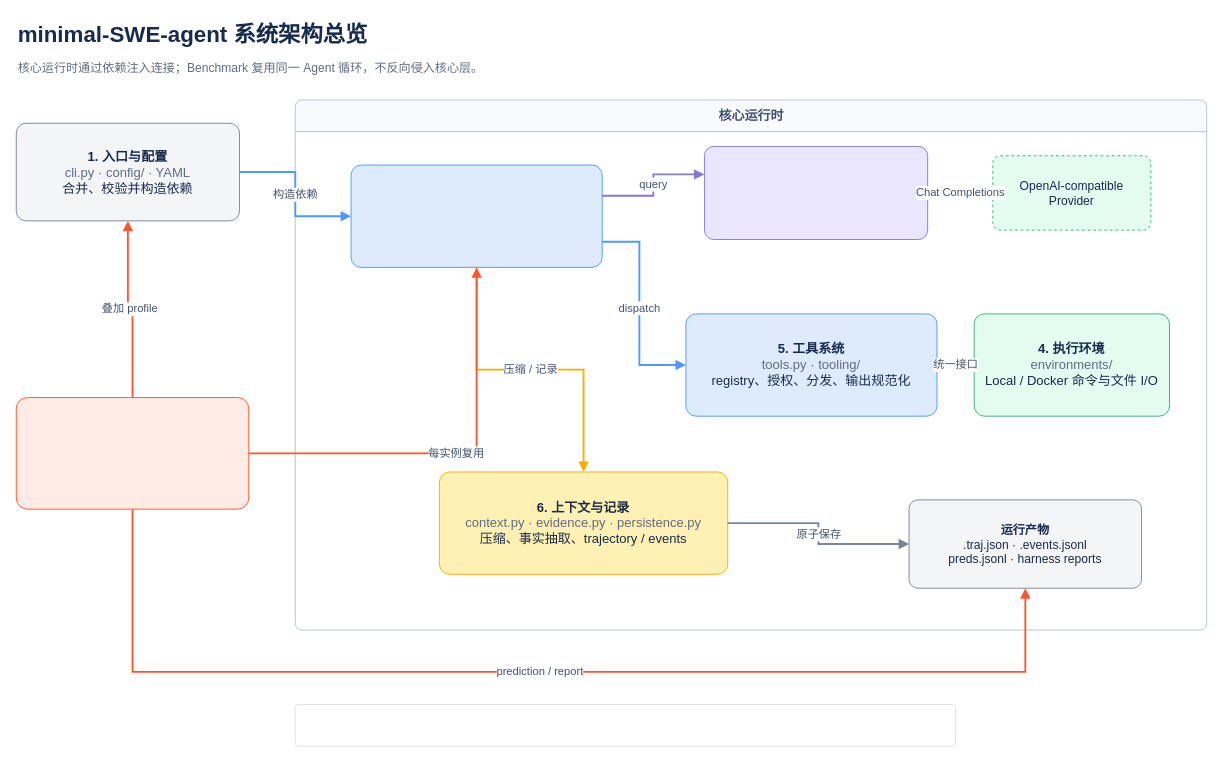
This 1223x763 diagram has some shape labels left out. The centre of each missing label's shape, as x and y in pixels:
2. Agent 控制流 agent.py · exceptions.py 预算、查询、工具批次、review、退出: point 476,215
3. 模型与成本 model.py · cost.py Provider 调用与 usage 计费: point 816,192
7. Benchmark 层 benchmarks/ · _swebench/ 数据选择、并发 runner、prediction、评分: point 132,453
图例 蓝：编排 紫：模型适配 绿：外部执行边界 黄：记录边界 红：Benchmark 边界: point 625,725
